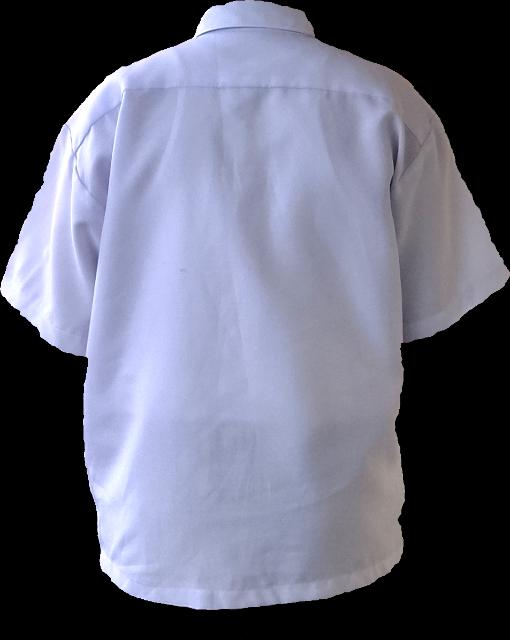poloboy: (0, 0, 509, 610)
